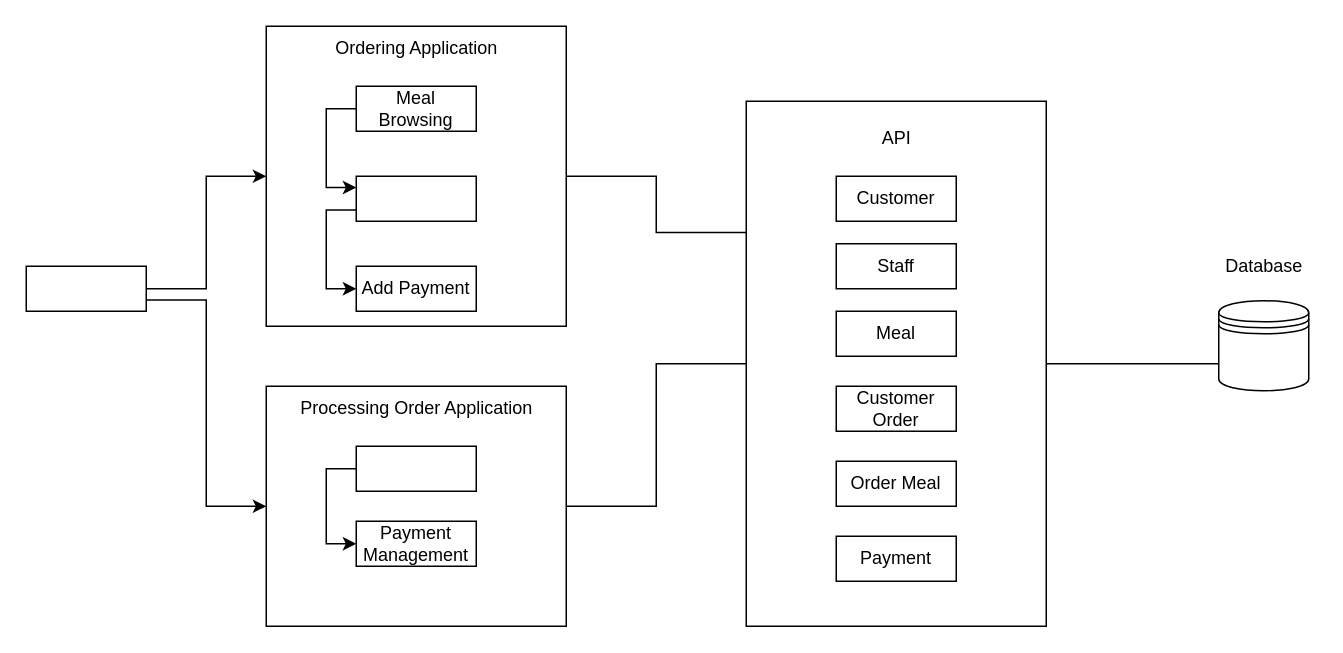
The diagram is 1343 pixels wide and 653 high, and some of its shapes have lost their labels. Each missing label, with the centre of its shape:
Add Order: point (415, 198)
Login: point (85, 288)
Orders Management: point (415, 468)
